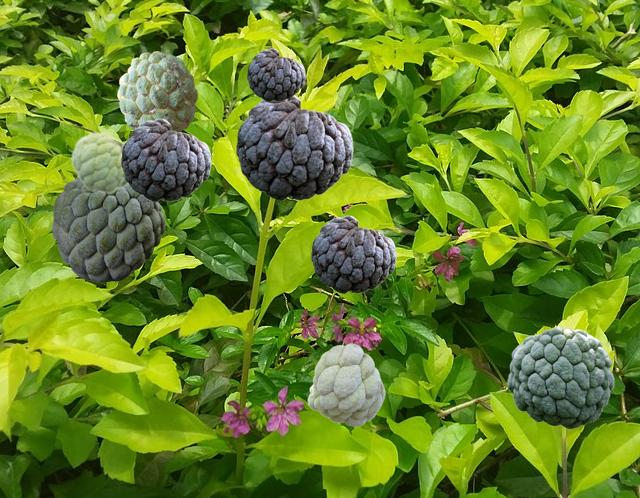atis: (236, 95, 352, 199), (52, 177, 164, 281), (507, 326, 613, 428), (121, 118, 210, 200), (311, 215, 395, 292), (117, 51, 196, 131), (307, 343, 384, 425), (70, 131, 127, 193), (247, 48, 304, 100)
